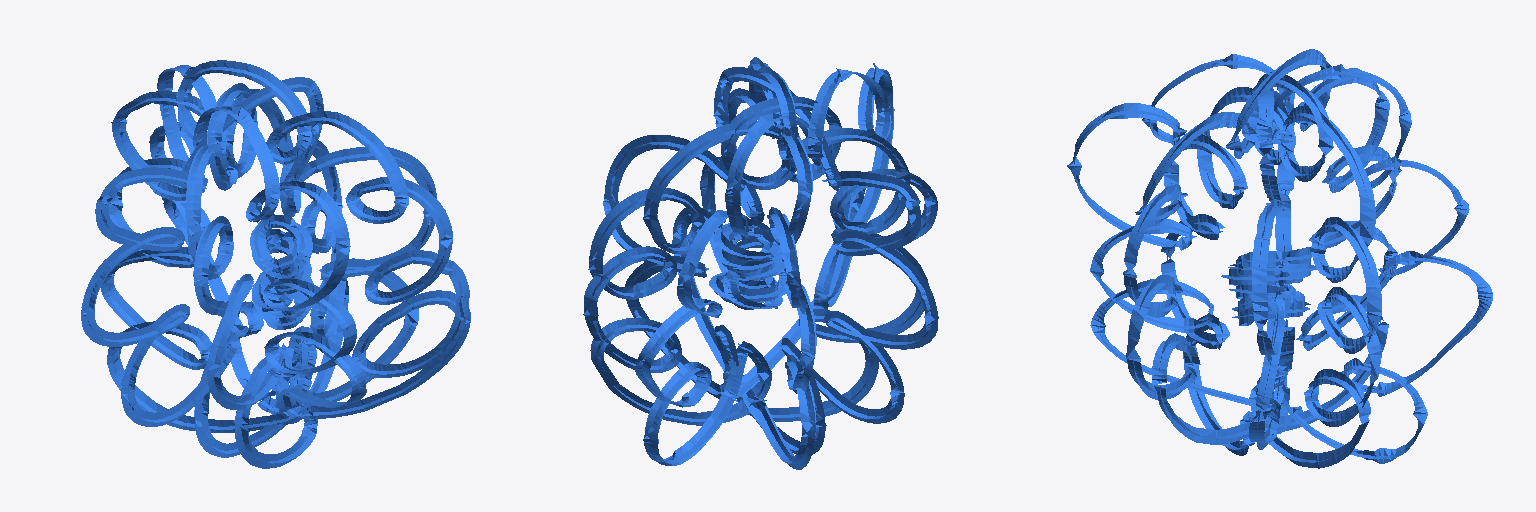
The picture shows the model from 3 angles: view 1: azimuth 30°, elevation 25°; view 2: azimuth 150°, elevation 25°; view 3: azimuth 270°, elevation 25°; orthographic projection.
Size of the model in its own units: 0.514 by 0.5496 by 0.5499.
Materials: 1 (1 with a texture image).